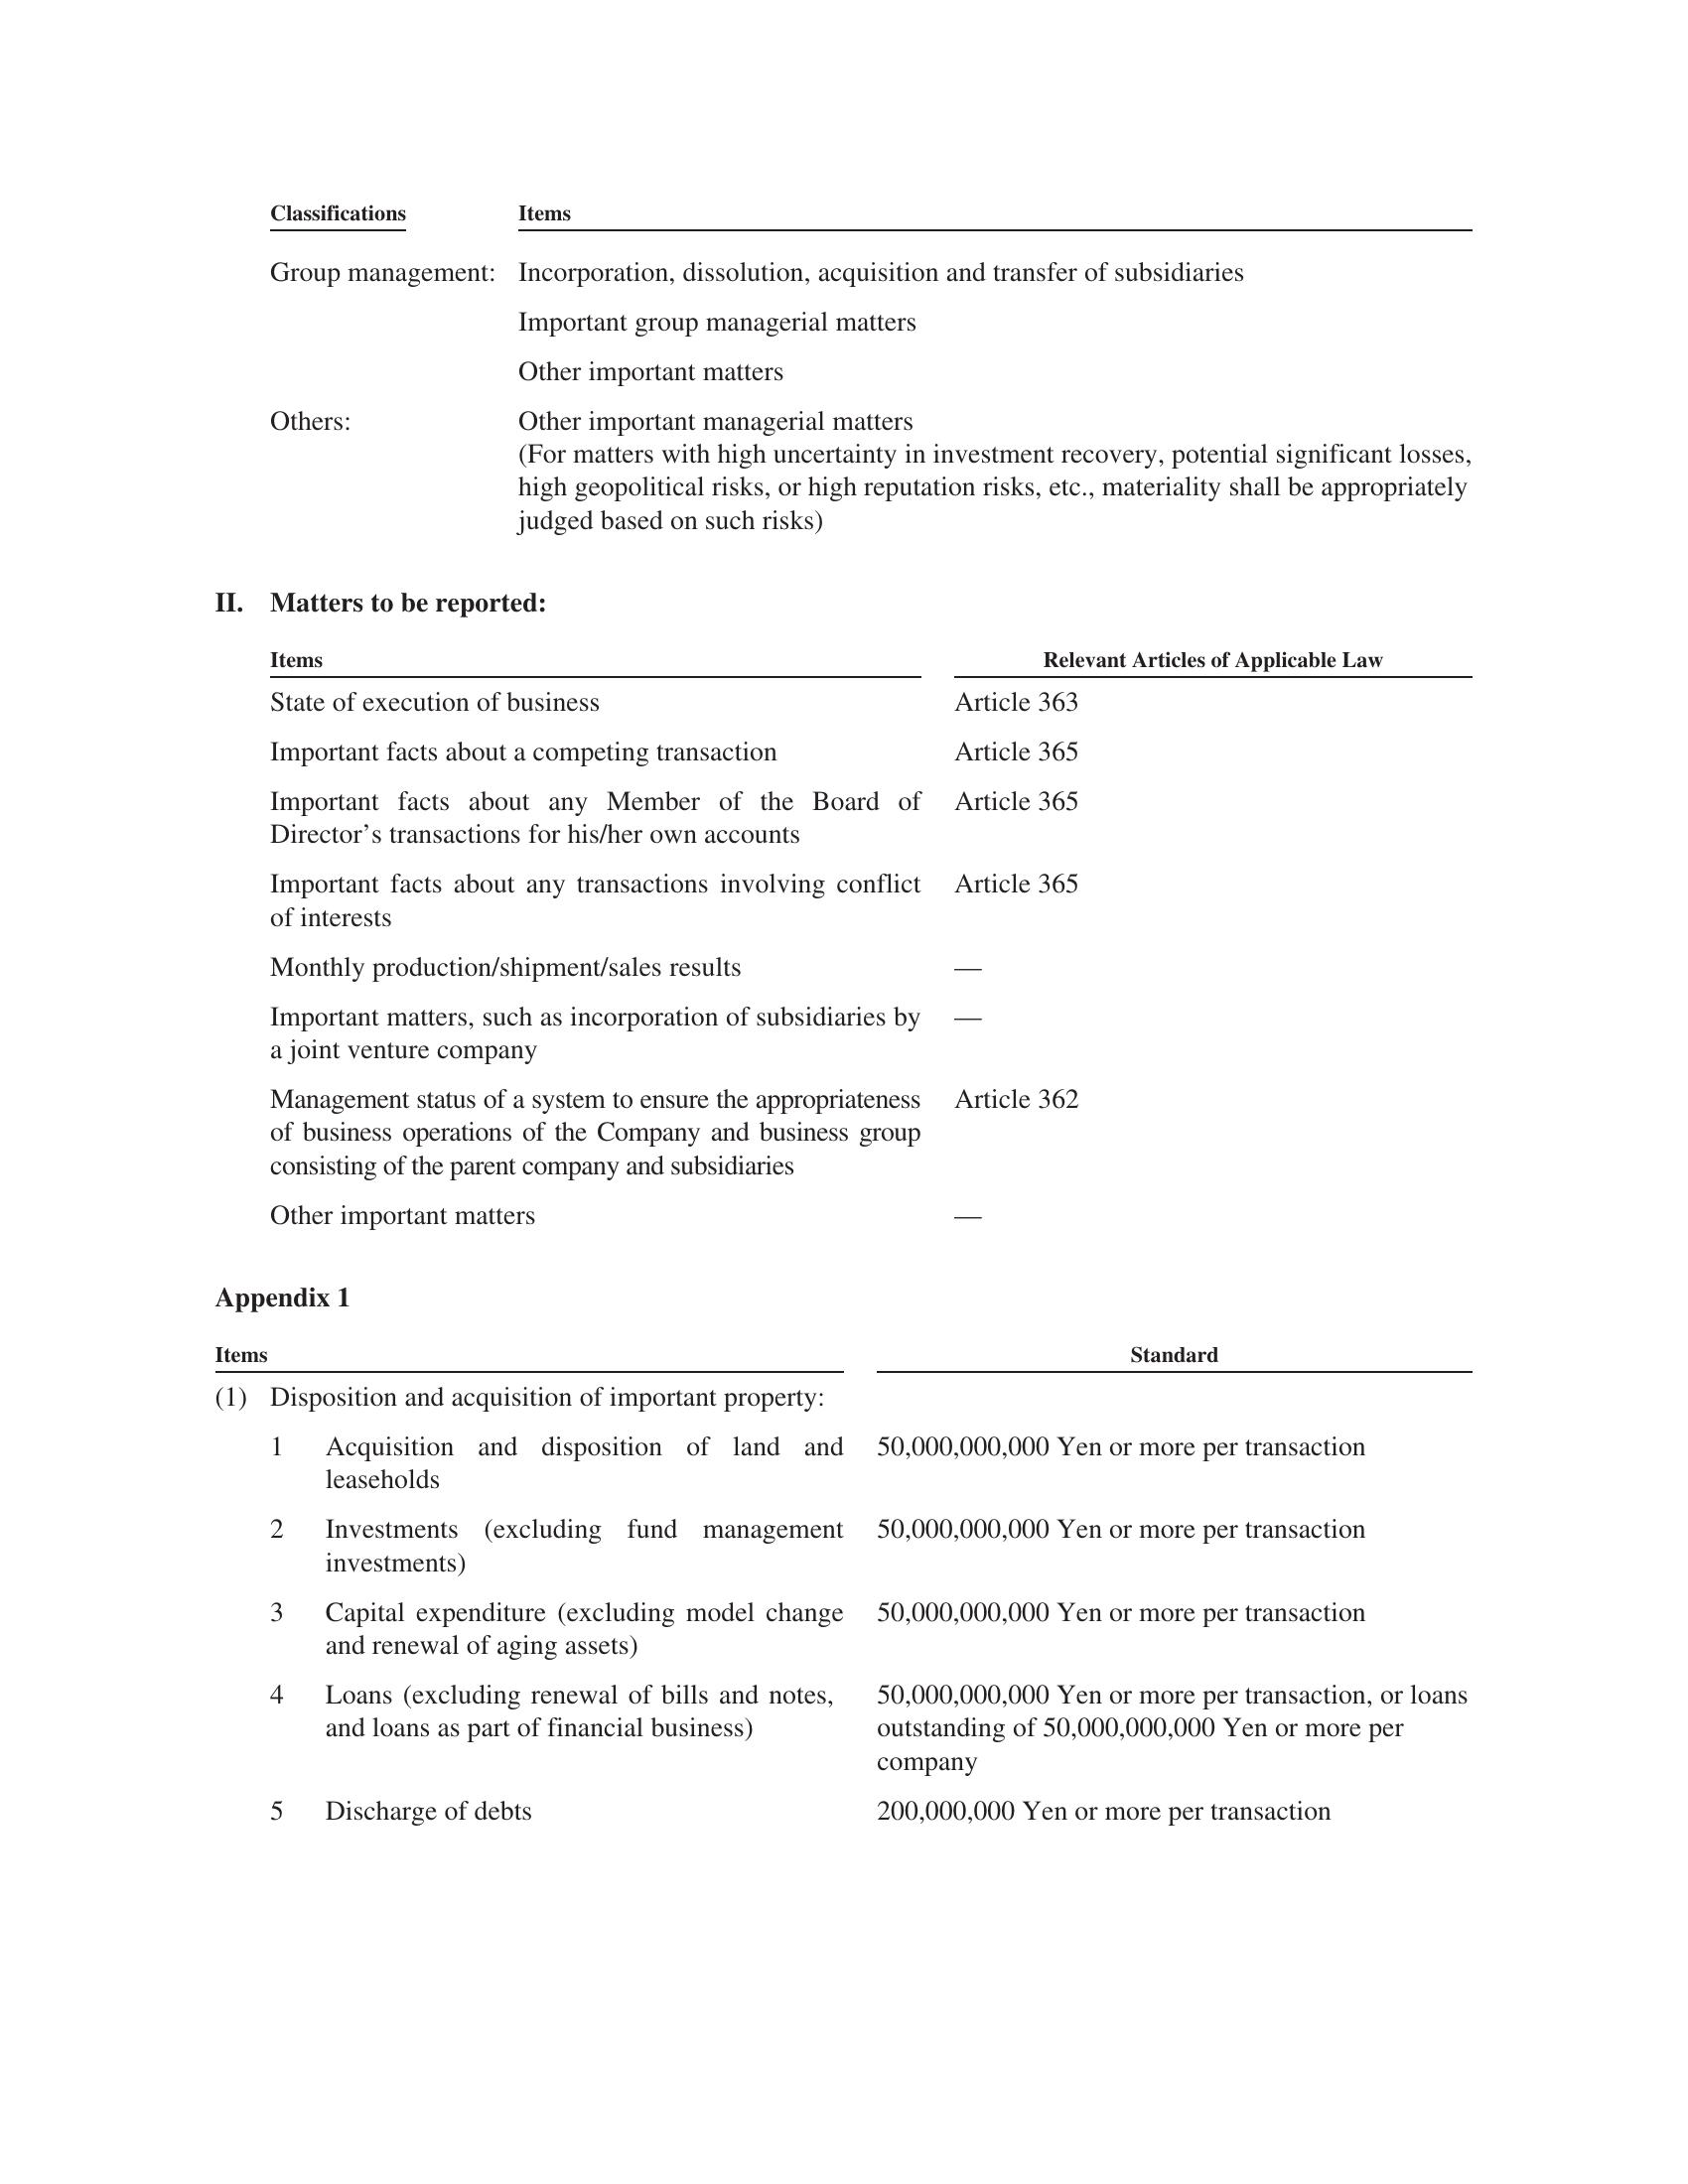Footer: (0, 1971, 1688, 2184)
Header: (0, 0, 1688, 170)
Table: (176, 638, 1482, 1252), (129, 1342, 1509, 1874), (188, 191, 1509, 532)
